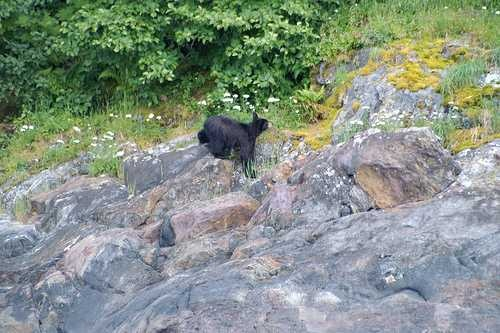bear: (170, 82, 298, 210)
